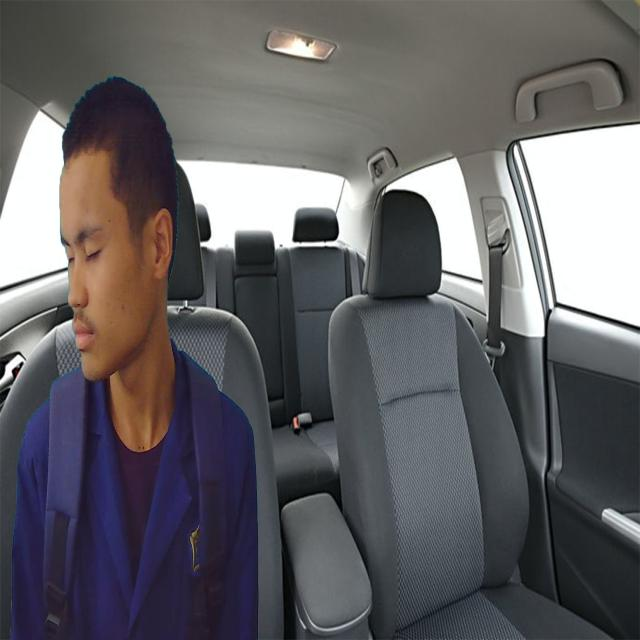no-seatbelt: (50, 135, 149, 389)
